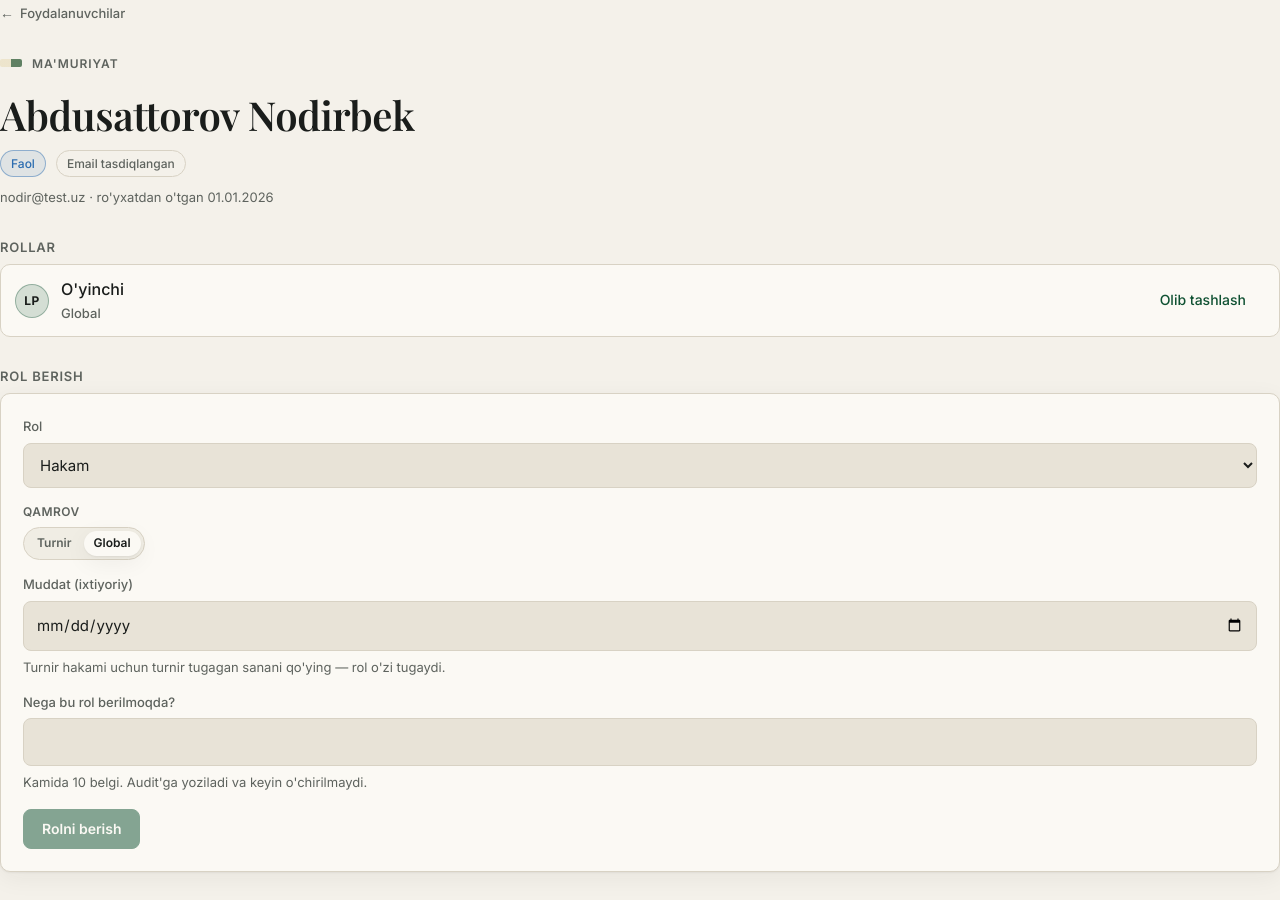
Test case: ma`muriy foydalanuvchi sahifasi › QAMROV talab qiladigan rol tanlansa maydon paydo bo`ladi
This screenshot has width=1280, height=900.
Check: the button "Rolni berish" is shown, box [23, 809, 140, 849]
CLUB_ADMIN faqat klub qamrovida bo'ladi (backend: ALLOWED_SCOPES).
Select "Klub admini" in the dropdown labelled "Rol": (640, 466) [23, 443, 1257, 488]
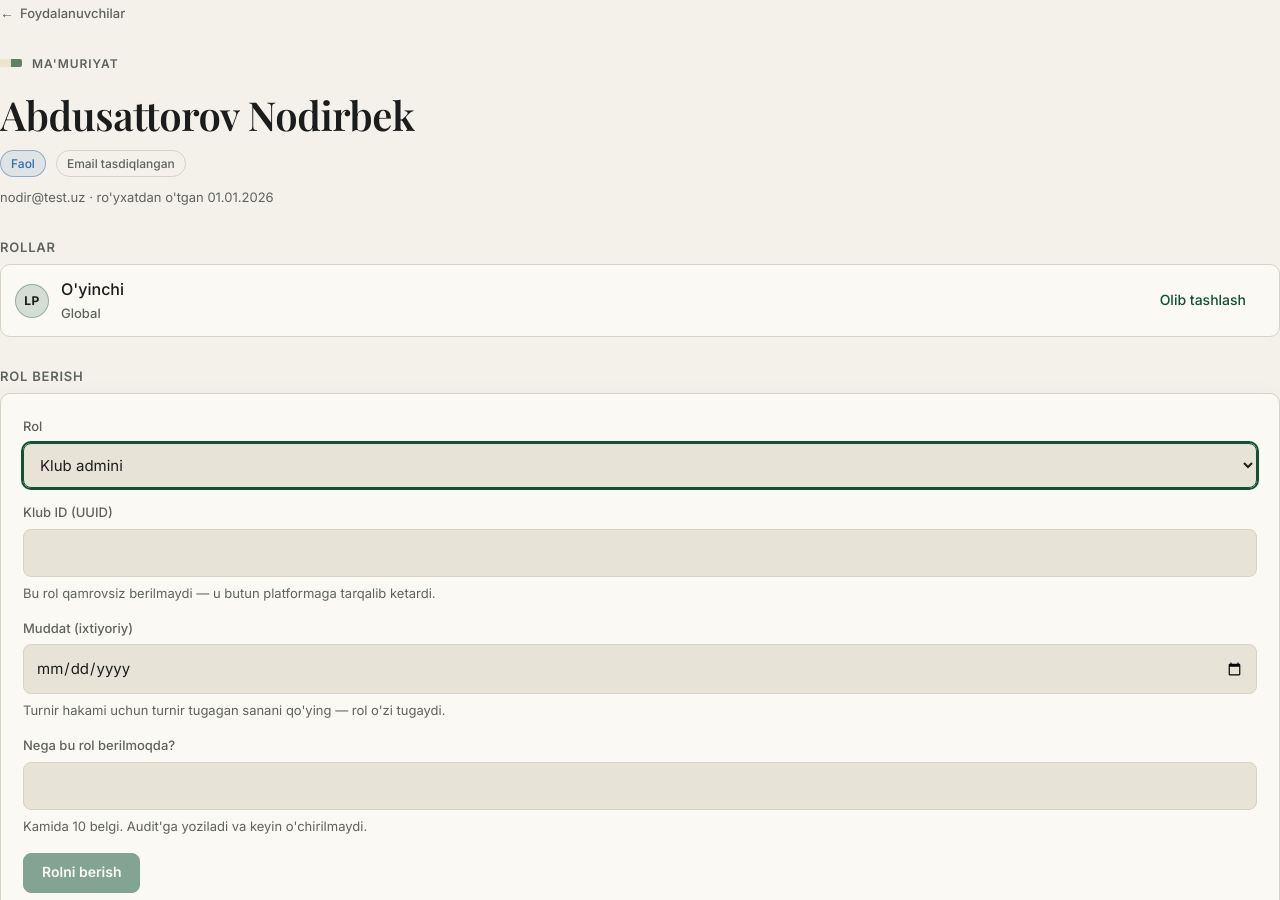
Check: the field labelled "Klub ID (UUID)" is shown, box [23, 529, 1257, 577]
